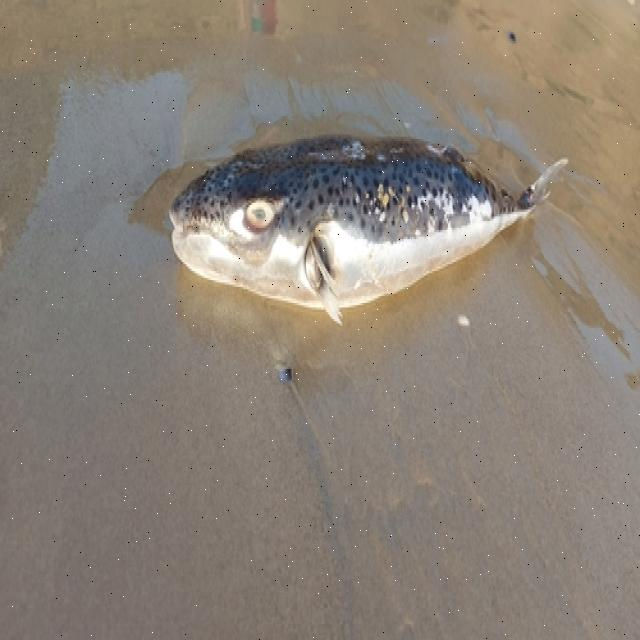Balik: (171, 137, 565, 323)
